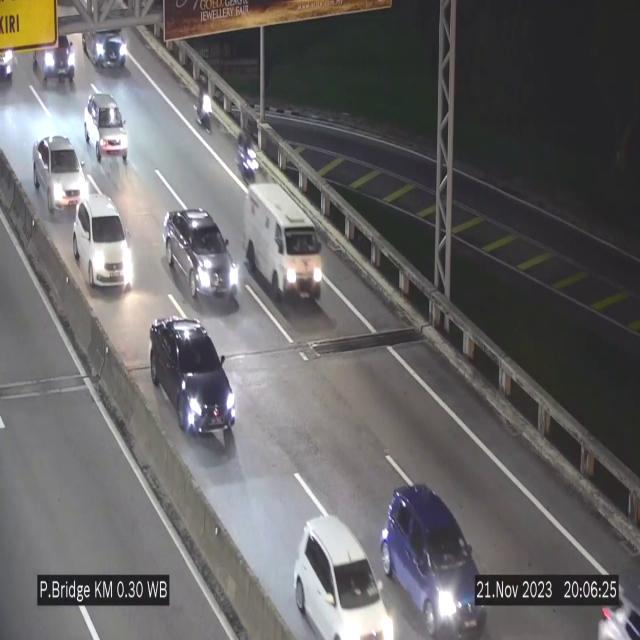Car: (382, 486, 489, 640), (295, 516, 396, 640), (147, 322, 240, 444), (243, 184, 323, 306), (163, 208, 240, 302), (73, 187, 133, 288), (25, 134, 91, 212), (81, 88, 132, 168), (30, 32, 80, 92), (83, 15, 133, 75)
Motorcycle: (239, 115, 259, 191), (195, 75, 212, 132)
